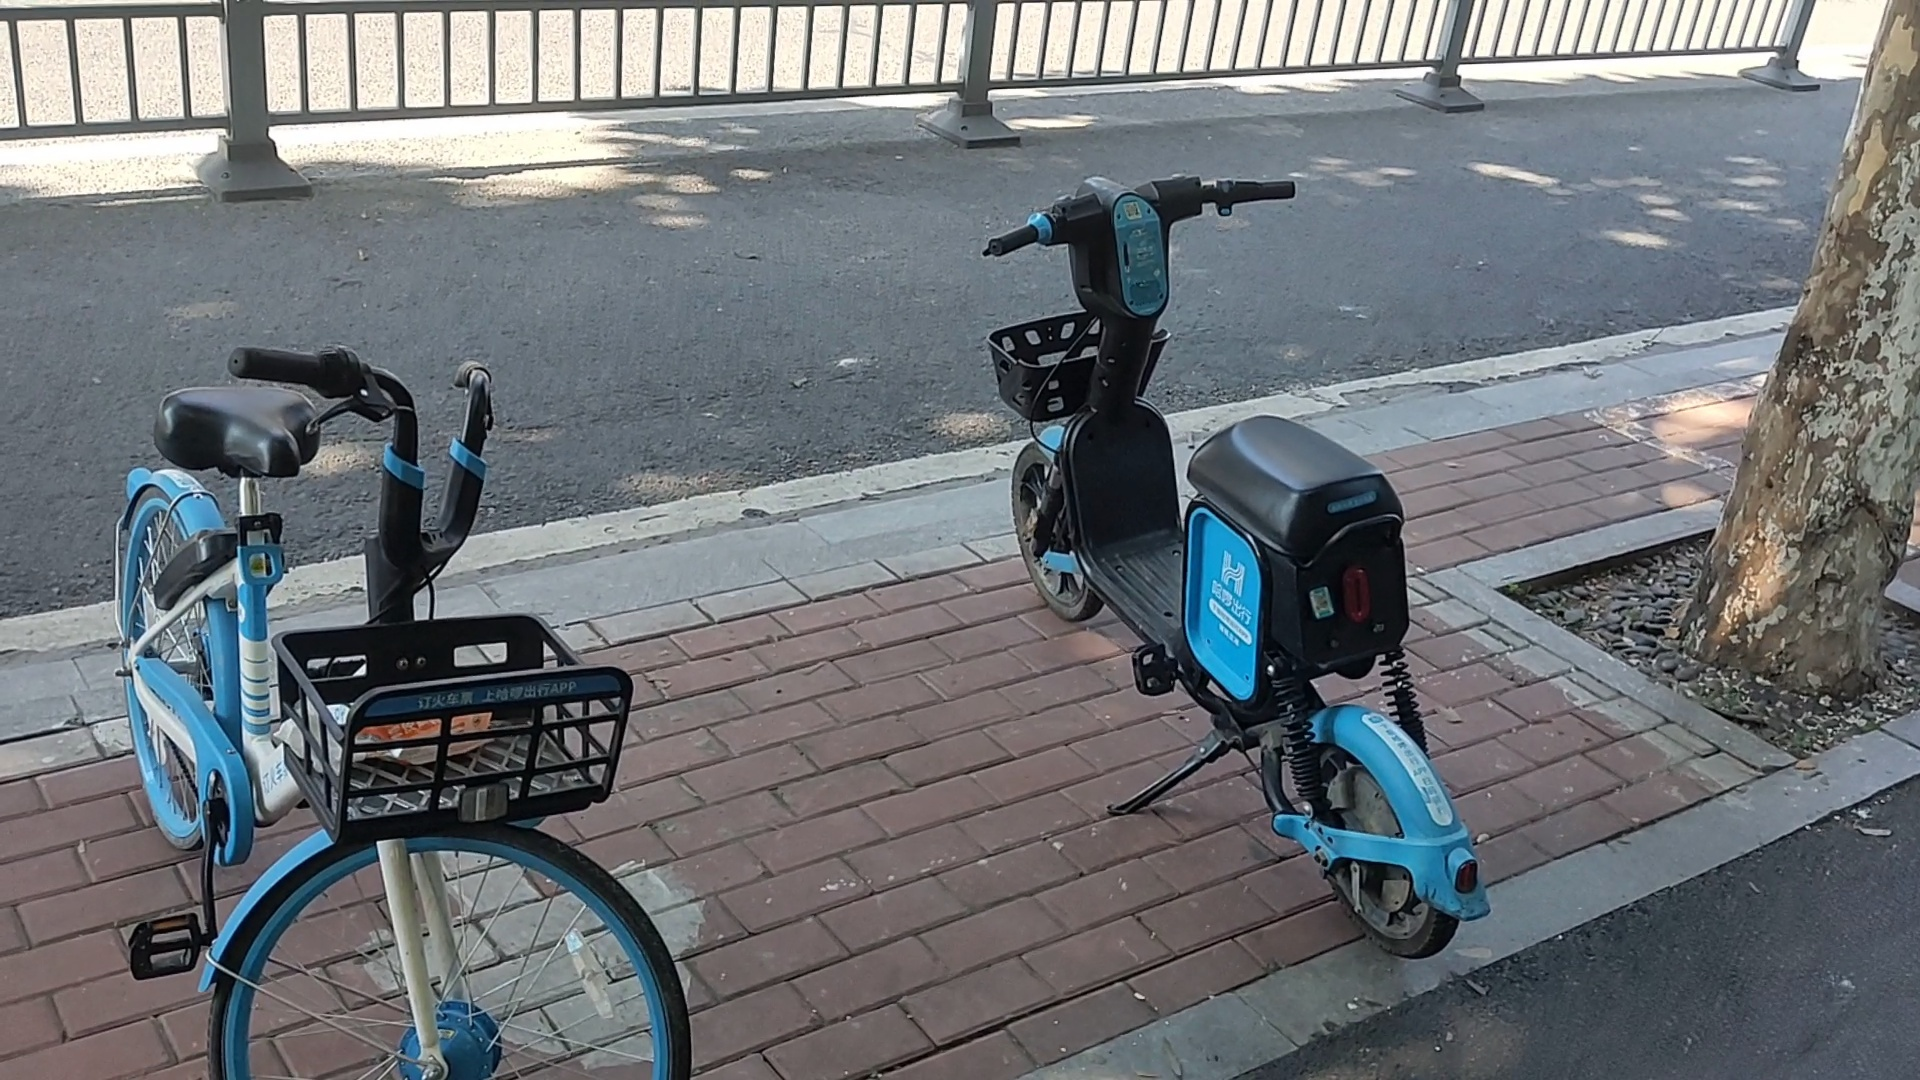non-vehicle: (58, 327, 684, 1080), (978, 164, 1498, 967)
